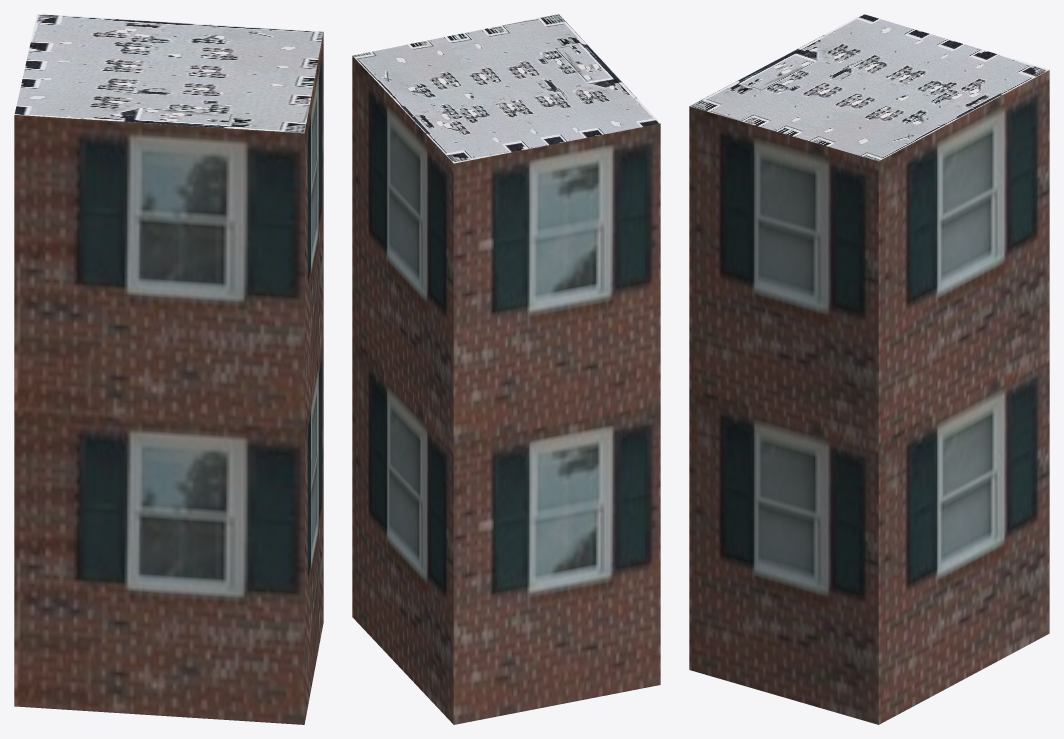
Rendered from ResTex__180.fbx.
The picture shows the model from 3 angles, left to right: view 1: azimuth 30°, elevation 25°; view 2: azimuth 150°, elevation 25°; view 3: azimuth 270°, elevation 25°; orthographic projection. The views are drawn at different scales.
Visible parts, largest first — view 1: CityEngineMaterial_14_m, CityEngineMaterial_2_m; view 2: CityEngineMaterial_14_m, CityEngineMaterial_2_m; view 3: CityEngineMaterial_14_m, CityEngineMaterial_2_m.
Boxes of the visible parts, x1=… form: CityEngineMaterial_14_m: x1=14, y1=32, x2=323, y2=724; CityEngineMaterial_2_m: x1=14, y1=14, x2=323, y2=133; CityEngineMaterial_14_m: x1=352, y1=56, x2=660, y2=724; CityEngineMaterial_2_m: x1=353, y1=14, x2=660, y2=163; CityEngineMaterial_14_m: x1=689, y1=70, x2=1049, y2=724; CityEngineMaterial_2_m: x1=690, y1=14, x2=1049, y2=161.
Size of the model in its own units: 3.36 by 6 by 3.48.
2 materials, 2 textured.
